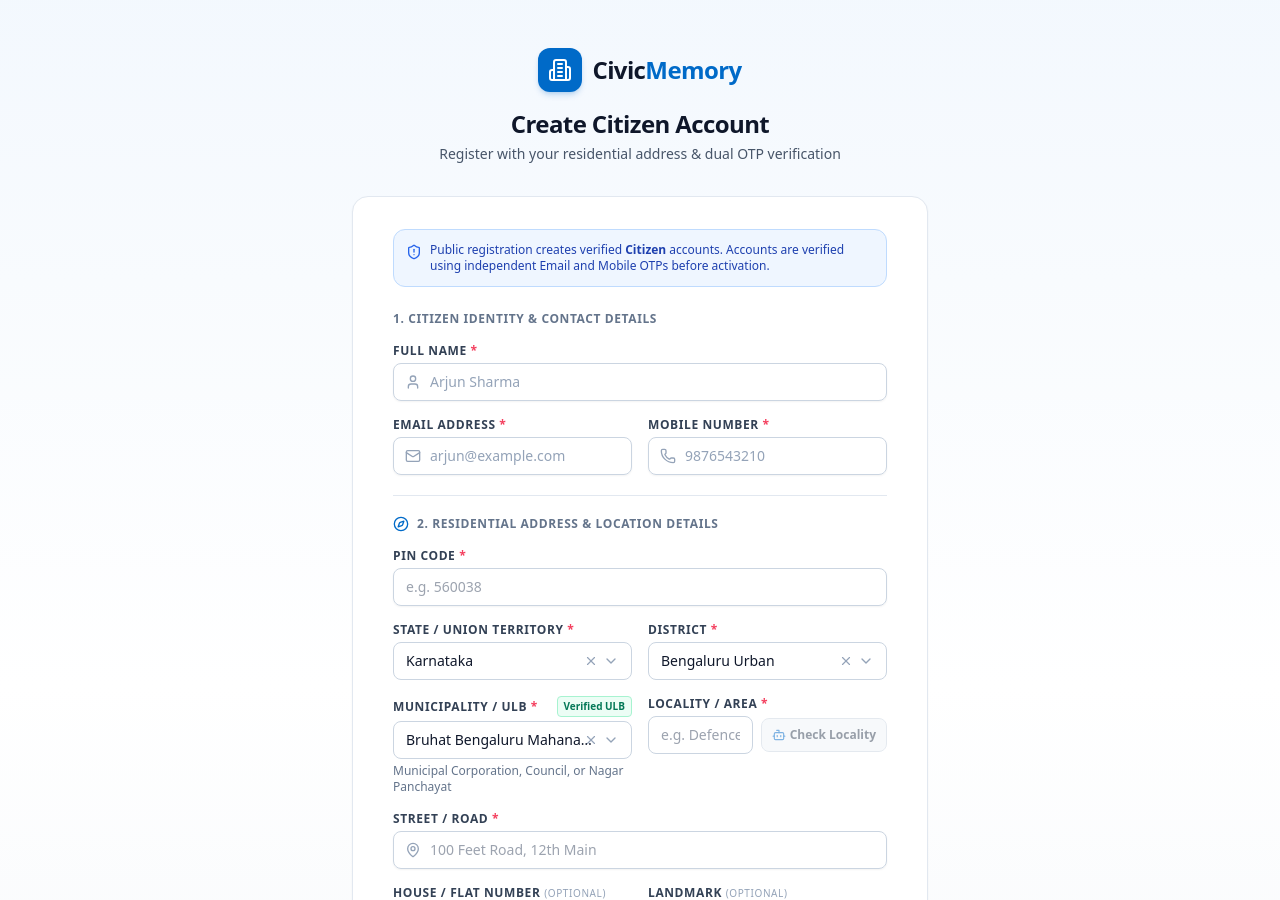
Test: RegisterPage — Citizen Registration & Address Selection Enhancement › 7. Manual locality entry with optional AI Check
The image size is (1280, 900).
Type "560038" into the field with placeholder "e.g. 560038" at point(640, 587), box [393, 568, 887, 606]
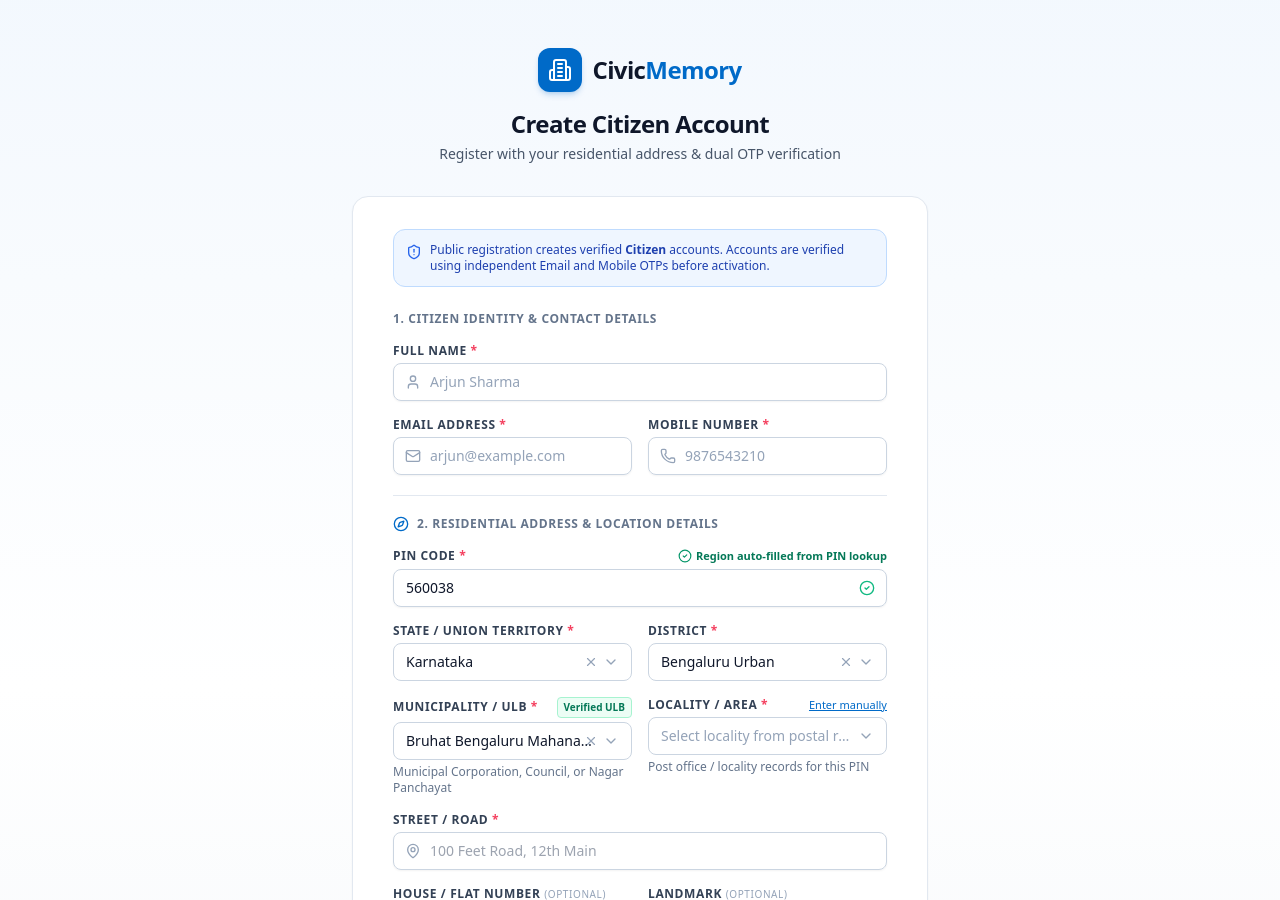
Check: the button "Enter manually" is shown
Note: Click "Enter manually"
Click the button "Enter manually" at point(848, 705), box [809, 696, 887, 713]
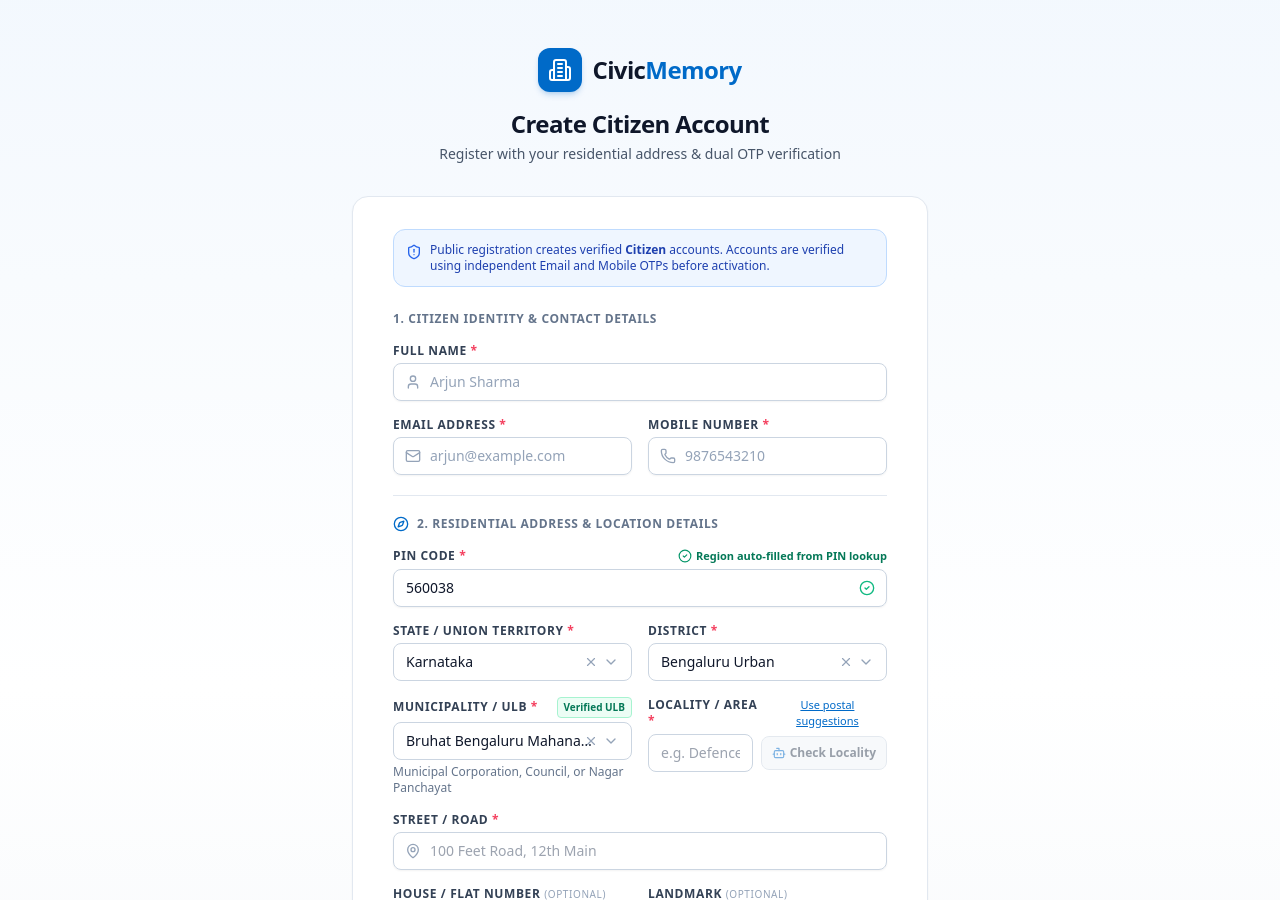
Check: the field with placeholder "e.g. Defence Colony, Sector 4" is shown
Type "Defence Colony" into the field with placeholder "e.g. Defence Colony, Sector 4" at point(700, 752), box [648, 734, 753, 772]
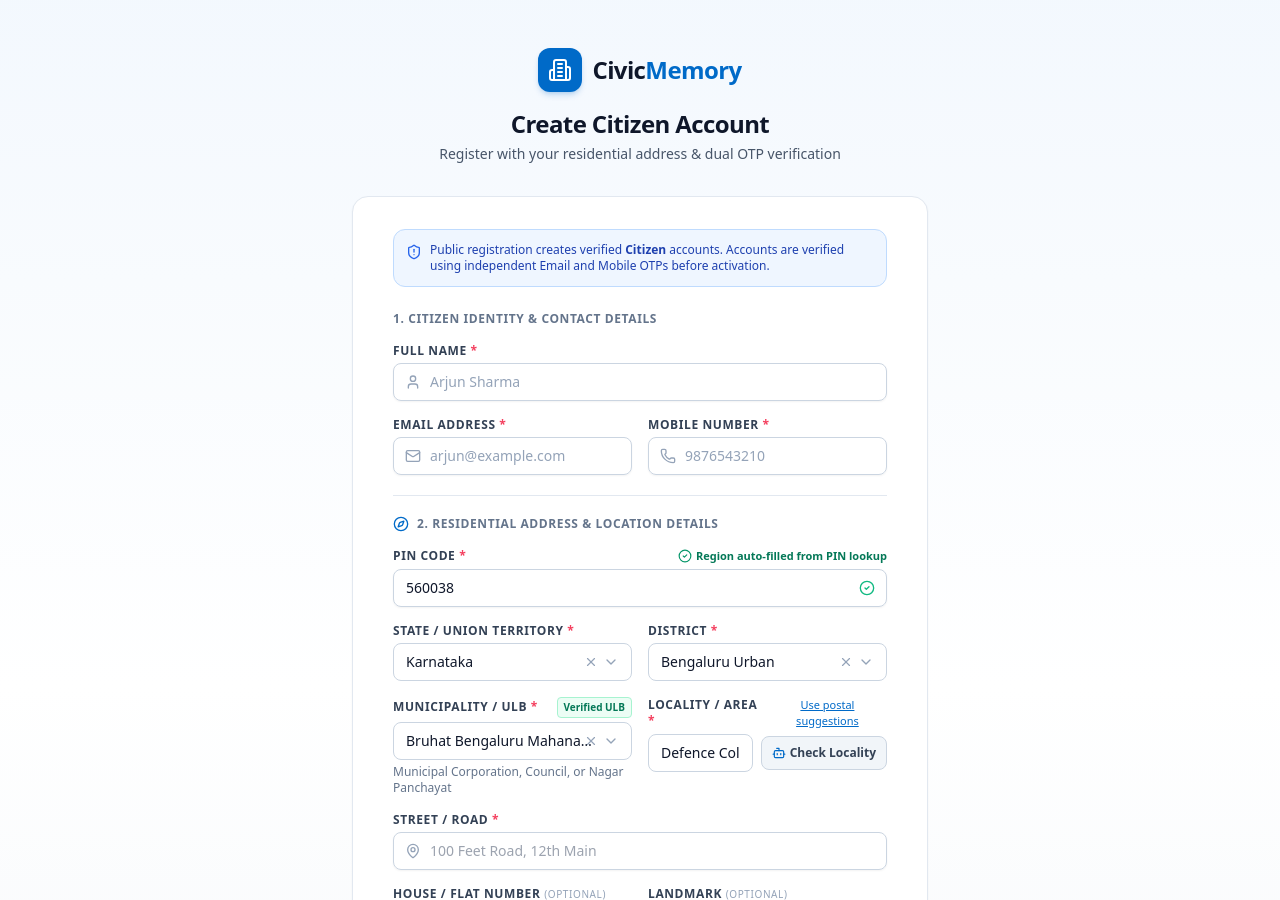
Check: the button titled "check locality plausibility with ai assistant" is shown
Click the button titled "check locality plausibility with ai assistant" at point(824, 752), box [761, 736, 887, 770]
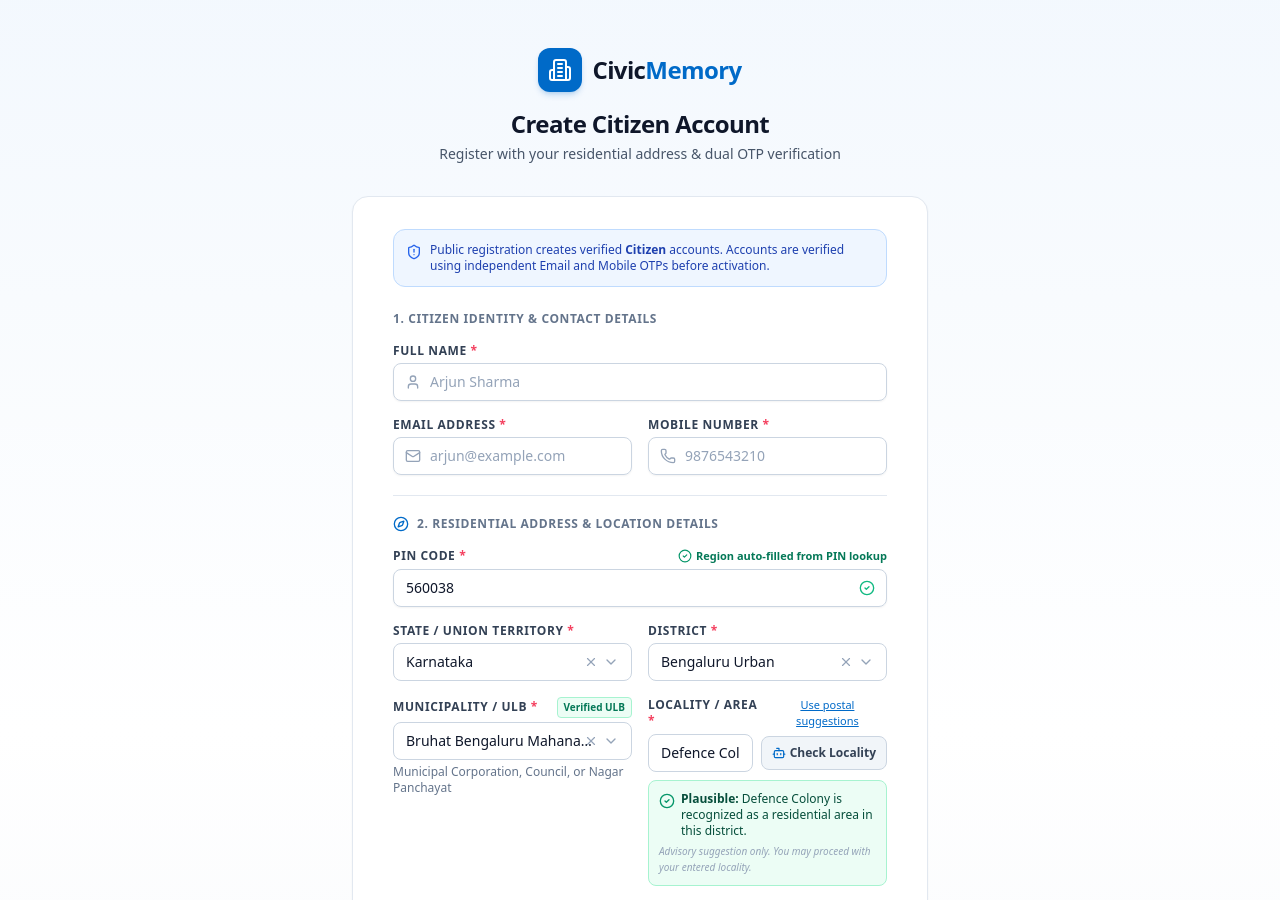
Check: the message is shown, box [648, 780, 887, 886]
Check: the text "plausible:" is shown, box [681, 790, 739, 806]
Check: the text "Defence Colony is recognized as a residential area" is shown, box [681, 790, 873, 838]
